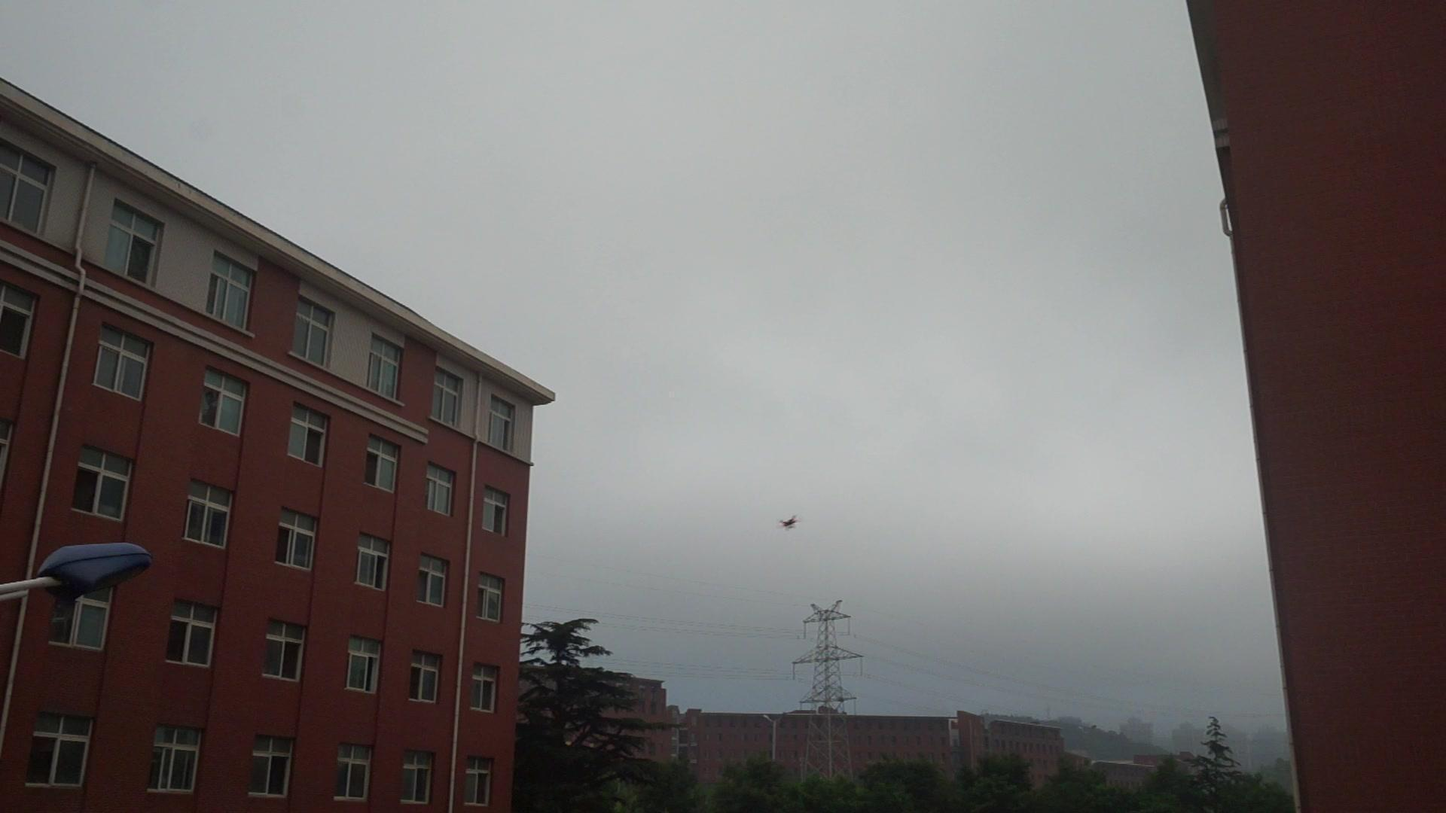UAV: (779, 516, 801, 531)
